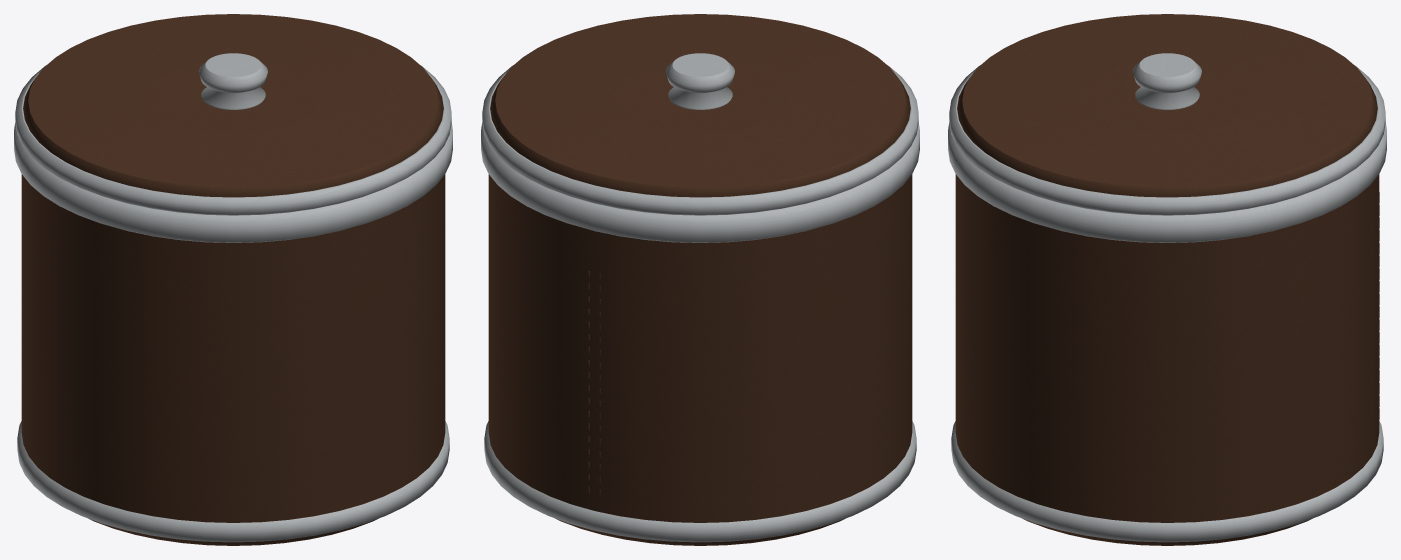
File: mg01_lidded_ice_bucket_lod0.glb
3 views of the same model, side by side, from view 1: azimuth 30°, elevation 25°; view 2: azimuth 150°, elevation 25°; view 3: azimuth 270°, elevation 25° (orthographic).
Visible parts, largest first — view 1: bucket_insulated_body, bucket_padded_lid, bucket_upper_trim, bucket_lid_edge, bucket_lower_trim, bucket_lid_knob; view 2: bucket_insulated_body, bucket_padded_lid, bucket_upper_trim, bucket_lid_edge, bucket_lower_trim, bucket_lid_knob; view 3: bucket_insulated_body, bucket_padded_lid, bucket_upper_trim, bucket_lid_edge, bucket_lower_trim, bucket_lid_knob.
Part boxes in pixels (<box>): bucket_insulated_body: <box>21,174,445,545</box>; bucket_padded_lid: <box>23,14,443,197</box>; bucket_upper_trim: <box>14,123,452,242</box>; bucket_lid_edge: <box>15,65,451,215</box>; bucket_lower_trim: <box>17,421,449,542</box>; bucket_lid_knob: <box>199,53,267,109</box>; bucket_insulated_body: <box>488,174,912,545</box>; bucket_padded_lid: <box>490,14,910,197</box>; bucket_upper_trim: <box>481,123,919,242</box>; bucket_lid_edge: <box>482,65,918,215</box>; bucket_lower_trim: <box>484,421,916,542</box>; bucket_lid_knob: <box>666,53,734,109</box>; bucket_insulated_body: <box>955,174,1379,545</box>; bucket_padded_lid: <box>957,14,1377,197</box>; bucket_upper_trim: <box>948,123,1386,242</box>; bucket_lid_edge: <box>949,65,1385,215</box>; bucket_lower_trim: <box>951,421,1383,542</box>; bucket_lid_knob: <box>1133,53,1201,109</box>.
Size of the model in its own units: 0.2032 by 0.2032 by 0.2032.
Materials: 2 (2 with a texture image).
